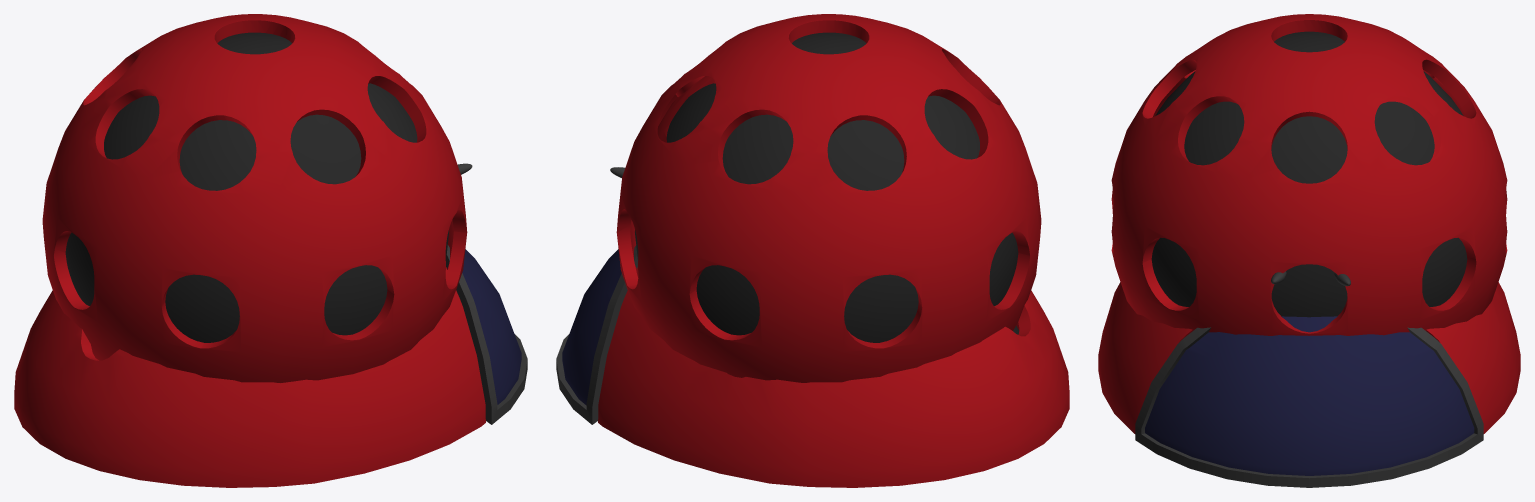
The picture shows the model from 3 angles, left to right: view 1: azimuth 30°, elevation 25°; view 2: azimuth 150°, elevation 25°; view 3: azimuth 270°, elevation 25°; orthographic projection. The views are drawn at different scales.
Visible parts, largest first — view 1: Outside, Shield, Inside, Visor, Visor_Frame; view 2: Outside, Shield, Inside, Visor, Visor_Frame; view 3: Outside, Visor, Inside, Shield, Visor_Frame.
Boxes of the visible parts, bbox=[...] form: Outside: bbox=[42, 14, 467, 382]; Shield: bbox=[14, 267, 485, 487]; Inside: bbox=[65, 32, 448, 342]; Visor: bbox=[462, 249, 521, 404]; Visor_Frame: bbox=[446, 245, 527, 424]; Outside: bbox=[616, 14, 1041, 382]; Shield: bbox=[598, 267, 1069, 487]; Inside: bbox=[635, 32, 1018, 342]; Visor: bbox=[562, 249, 621, 405]; Visor_Frame: bbox=[556, 245, 637, 424]; Outside: bbox=[1111, 14, 1507, 335]; Visor: bbox=[1145, 316, 1474, 475]; Inside: bbox=[1151, 31, 1467, 317]; Shield: bbox=[1098, 282, 1520, 433]; Visor_Frame: bbox=[1135, 327, 1483, 487].
Size of the model in its own units: 167 by 130 by 139.
